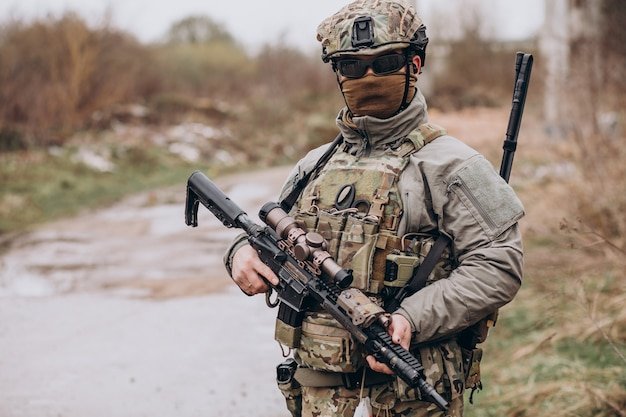gun: (183, 169, 450, 409)
